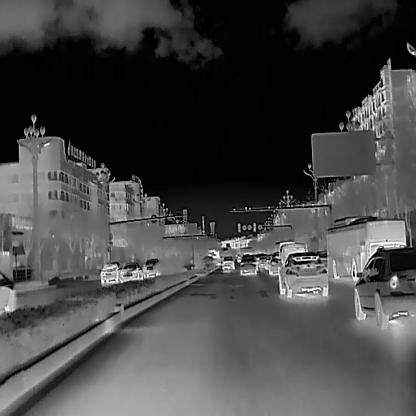bus: (324, 214, 408, 282), (274, 240, 293, 252)
car: (352, 245, 415, 330), (277, 252, 327, 297), (0, 270, 16, 315), (278, 243, 306, 262), (100, 260, 121, 284), (238, 252, 258, 275), (118, 261, 142, 280), (141, 258, 159, 276), (219, 255, 234, 271), (268, 252, 278, 275), (258, 253, 266, 268), (264, 254, 271, 270)
truck: (206, 247, 220, 271)
